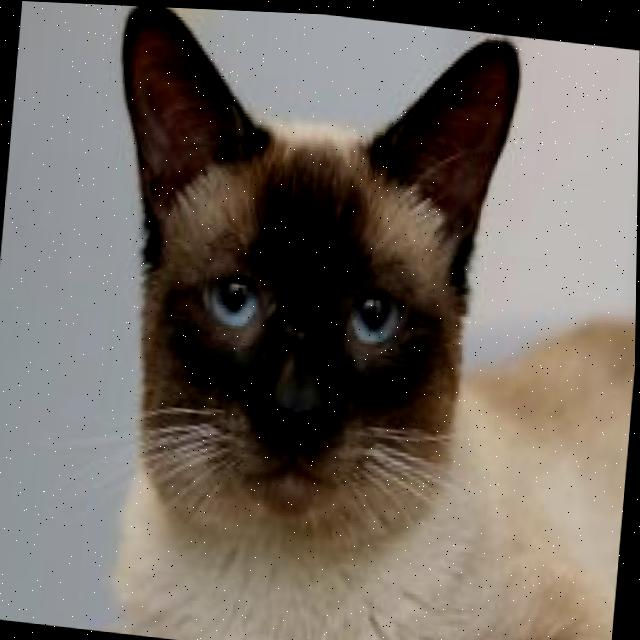Siamese: (68, 3, 640, 640)
